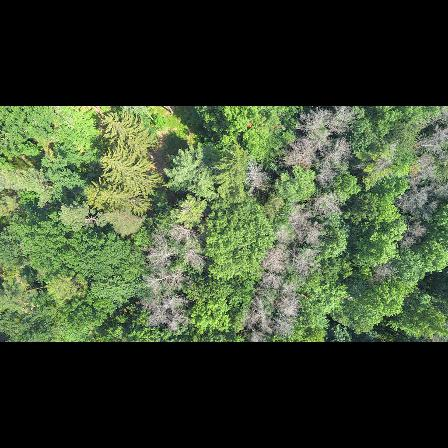Dead: (389, 182, 431, 216), (148, 294, 190, 327), (238, 156, 268, 200), (297, 107, 346, 133), (150, 265, 195, 293), (319, 138, 347, 183), (281, 137, 317, 167), (414, 128, 447, 158), (245, 300, 272, 336), (291, 222, 332, 244), (290, 247, 318, 278), (163, 224, 202, 245), (315, 186, 343, 215), (284, 200, 314, 226), (262, 244, 288, 272), (374, 261, 399, 284), (278, 292, 300, 317), (148, 245, 175, 262), (182, 248, 206, 266), (261, 273, 282, 290), (410, 218, 427, 237), (275, 315, 294, 332), (399, 234, 418, 249)
